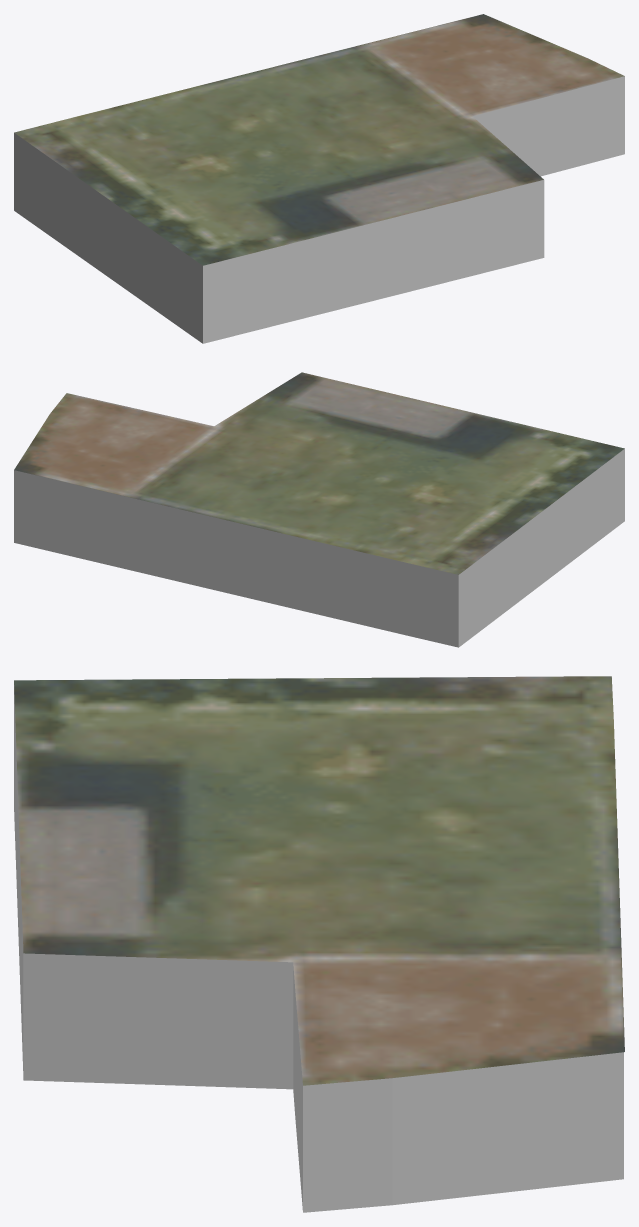
File: DEBW_0010007Tx8j.gltf
3 views of the same model, one above another, from view 1: azimuth 30°, elevation 25°; view 2: azimuth 150°, elevation 25°; view 3: azimuth 270°, elevation 25° (orthographic). The views are drawn at different scales.
Parts seen in each view (by area): view 1: Z_UP; view 2: Z_UP; view 3: Z_UP.
Part boxes in pixels (x1,y1,x2,y2): Z_UP: (14, 14, 624, 343); Z_UP: (14, 372, 624, 647); Z_UP: (14, 676, 624, 1212).
Bounding box in the file's own units: 28.57 × 4.13 × 18.01.
2 materials, 1 textured.
